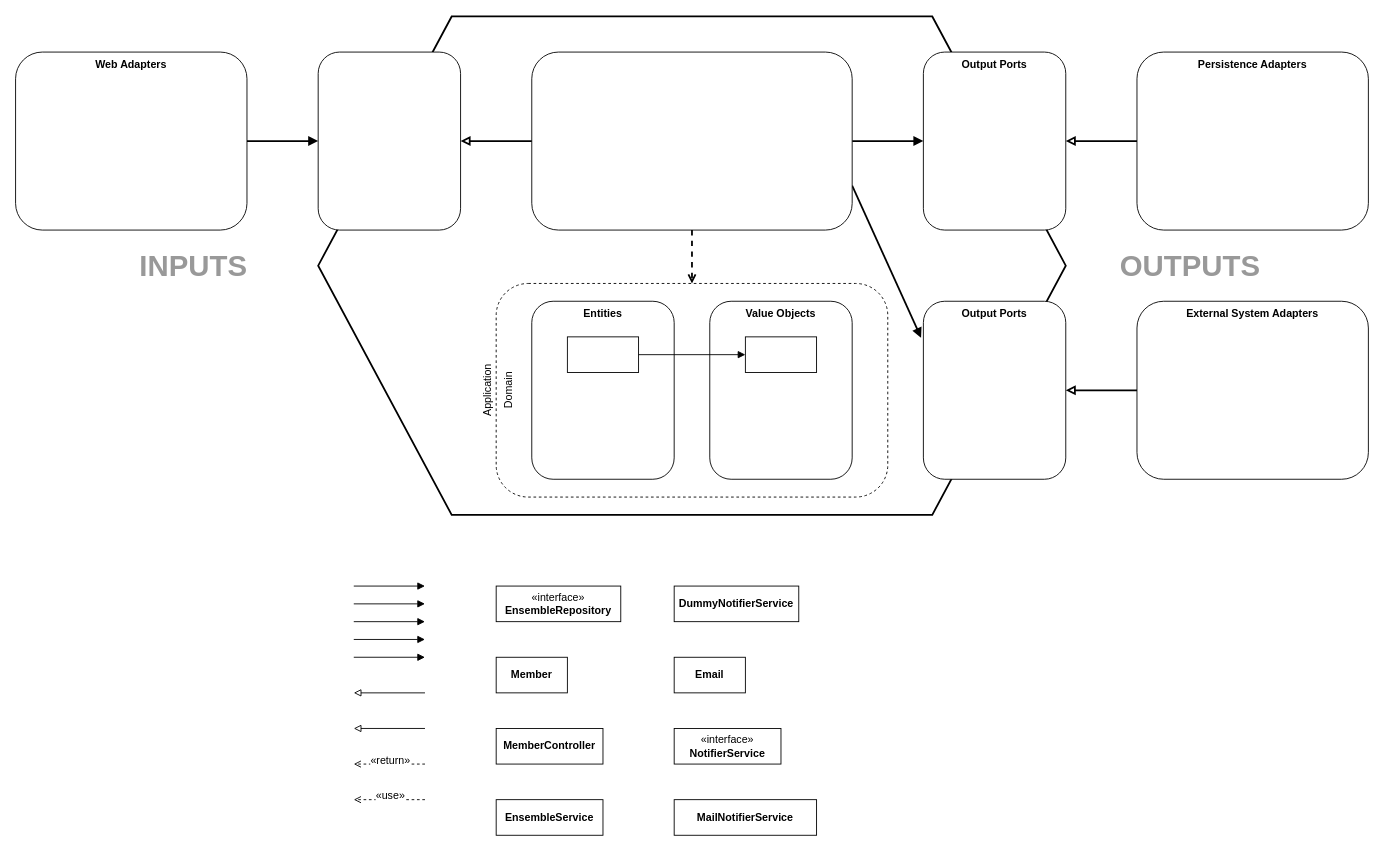
This 1384x851 diagram has some shape labels left out. The centre of each missing label's shape, as x and y in pixels:
"Ensemble" goes at (x=602, y=354).
"Input Ports" goes at (x=389, y=140).
"Participant" goes at (x=780, y=354).
"Services" goes at (x=691, y=140).
